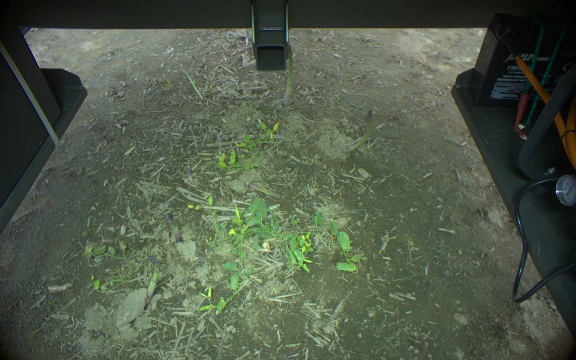aspa: (342, 108, 374, 155), (141, 262, 161, 312), (243, 179, 281, 199), (283, 44, 294, 110), (166, 213, 183, 245), (148, 253, 163, 271), (186, 166, 193, 182)
